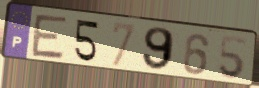5: (218, 33, 250, 82), (73, 17, 100, 63)
6: (182, 32, 211, 76)
7: (110, 20, 139, 69)
9: (141, 26, 179, 74)
E: (29, 12, 70, 62)
